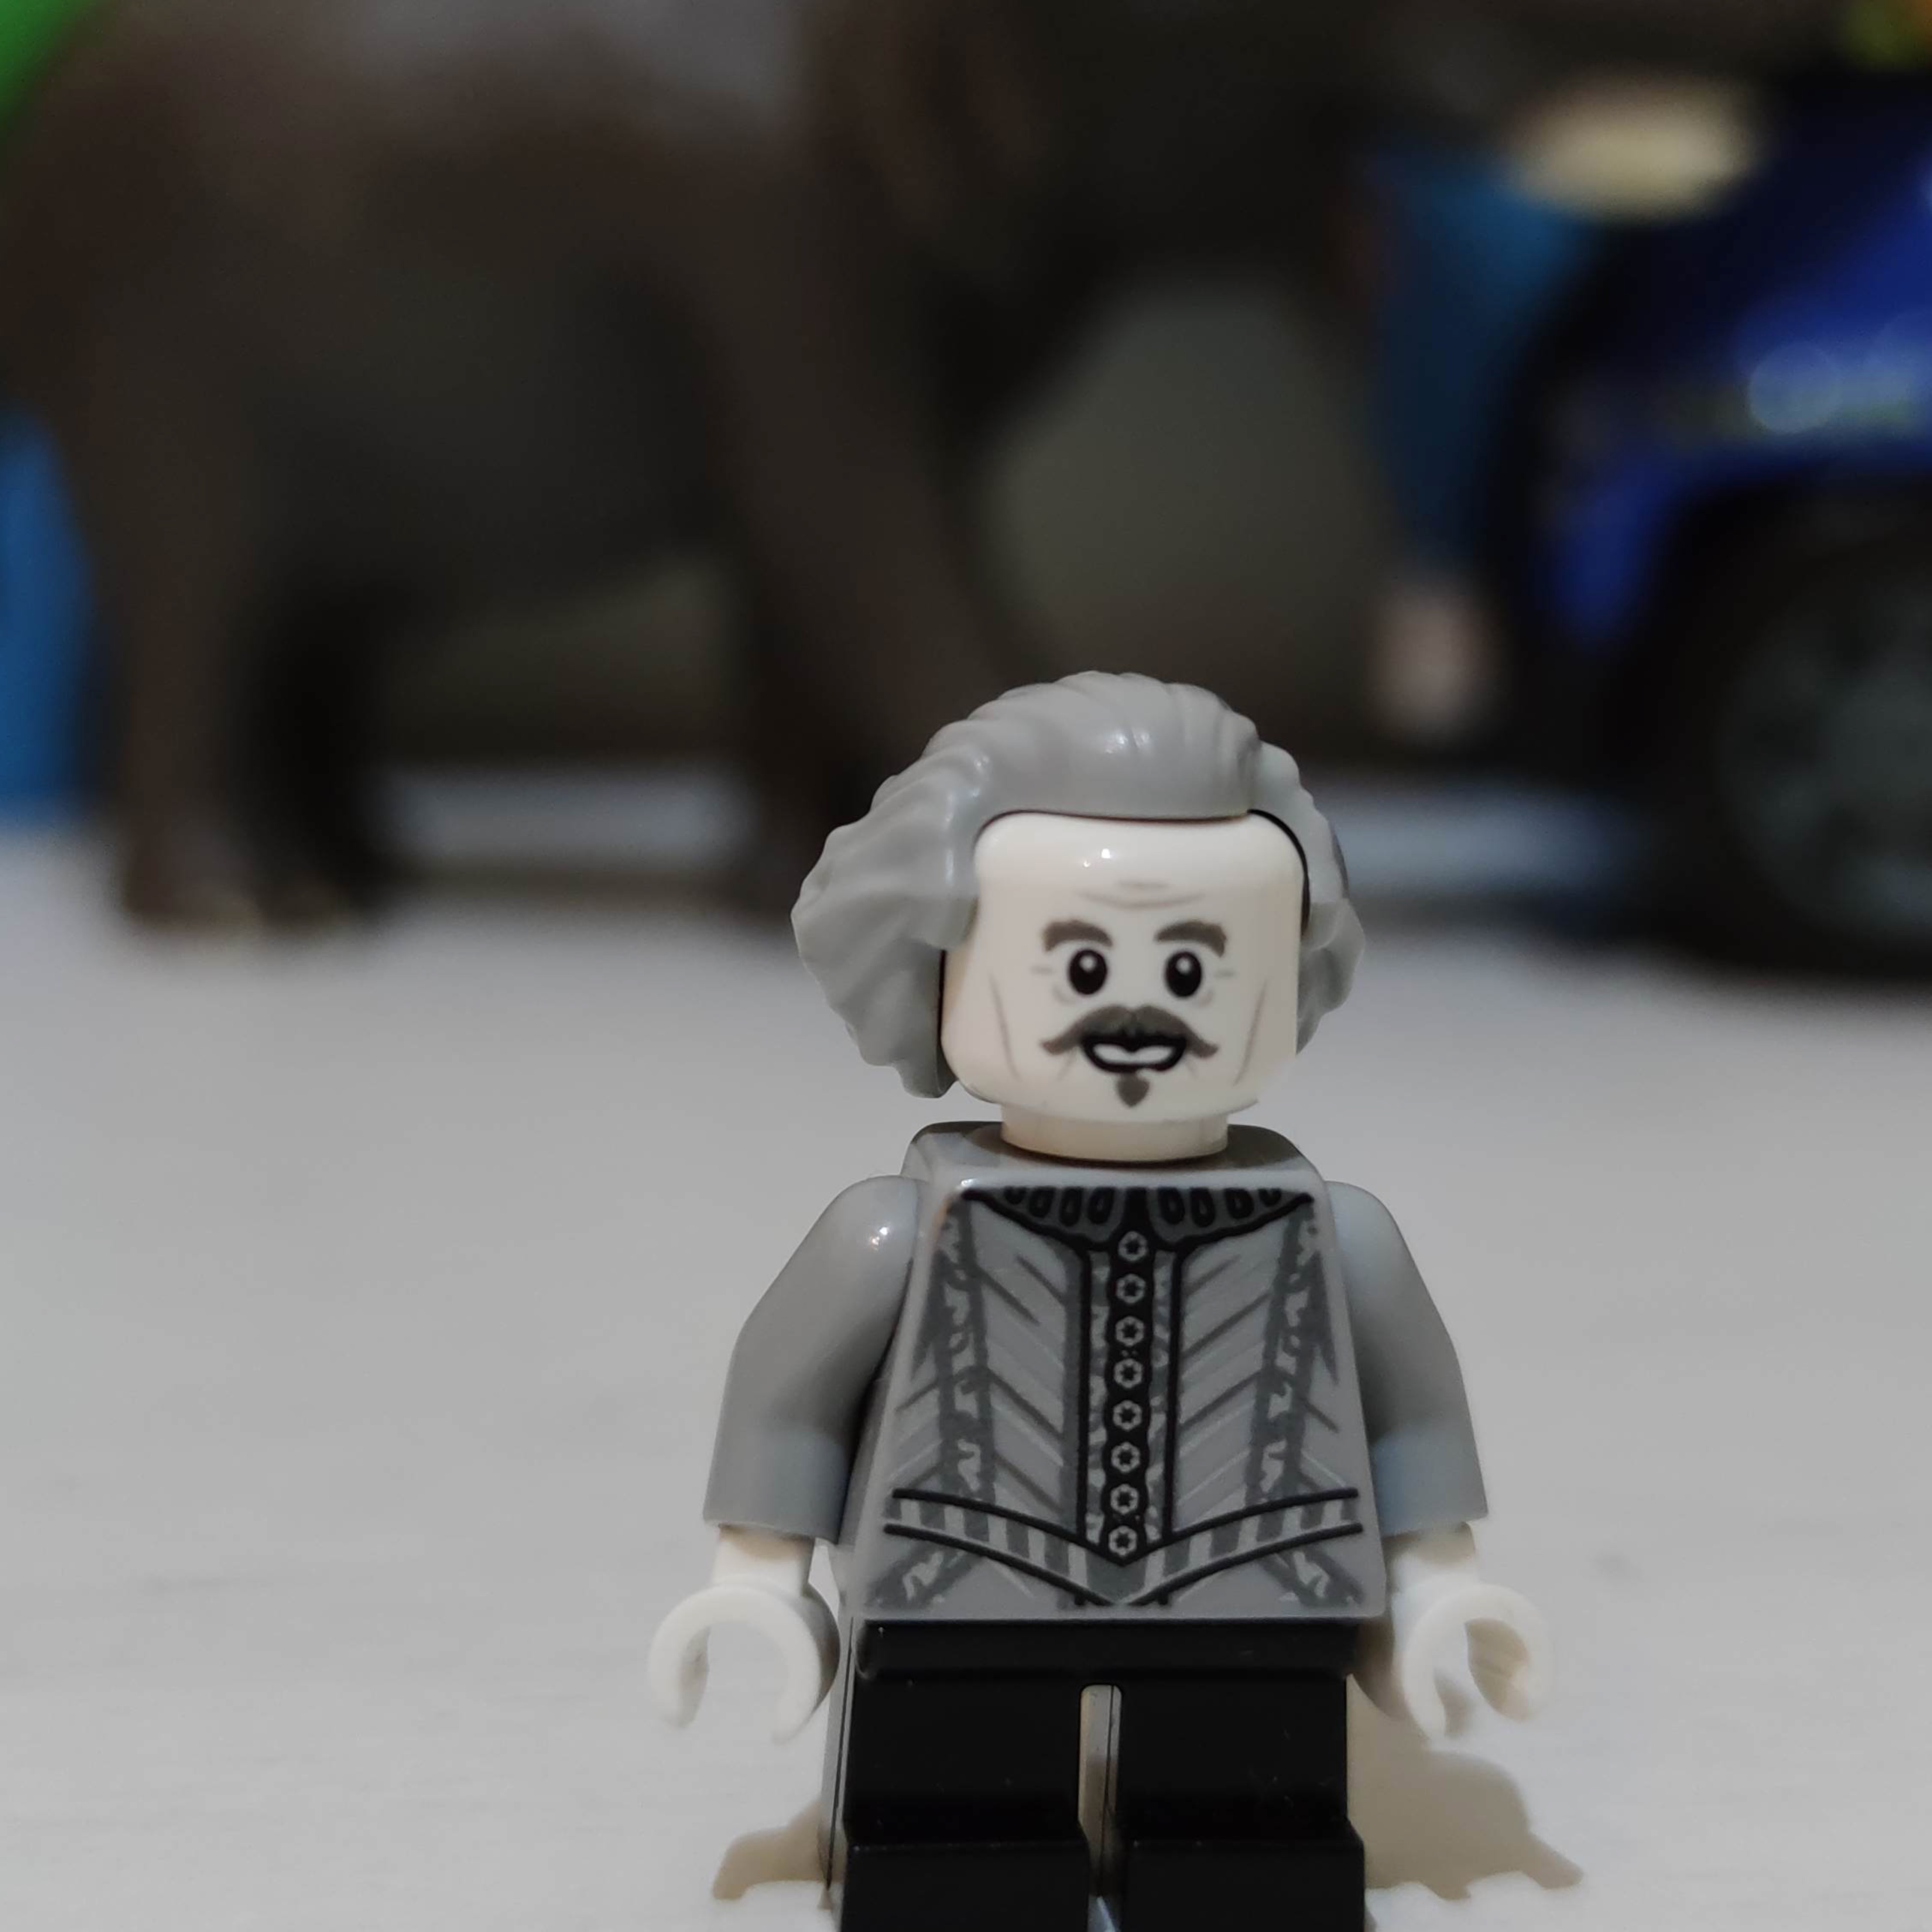lego: (655, 667, 1546, 1932)
